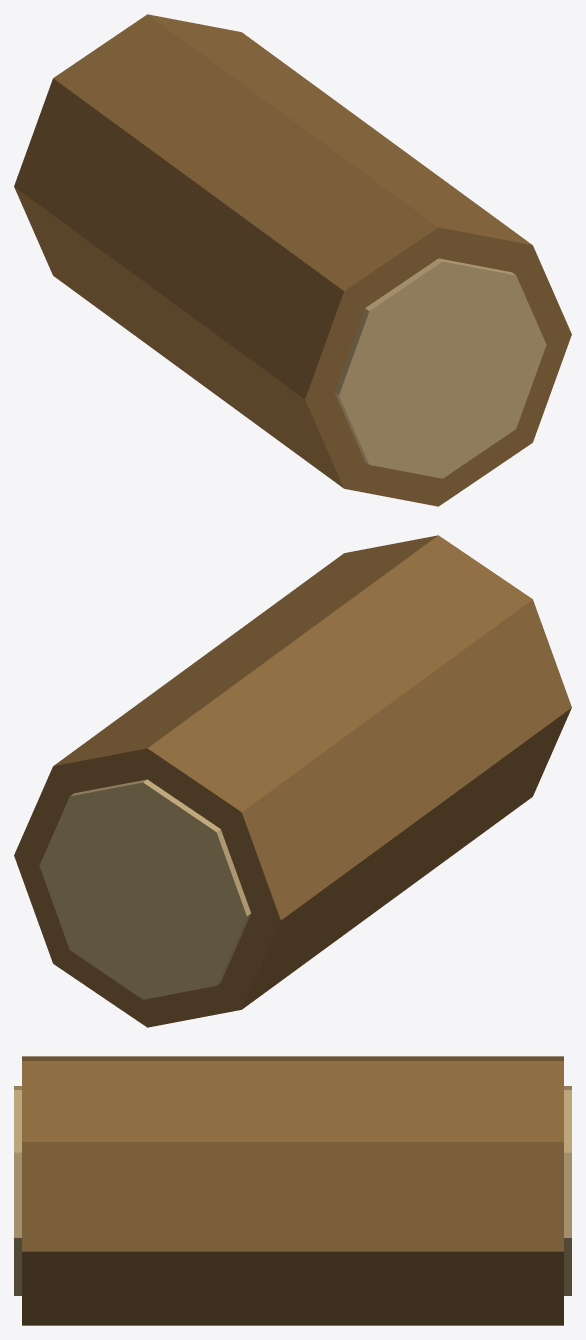
Rendered from log.fbx.
The picture shows the model from 3 angles, top to bottom: view 1: azimuth 30°, elevation 25°; view 2: azimuth 150°, elevation 25°; view 3: azimuth 270°, elevation 25°; orthographic projection. The views are drawn at different scales.
Visible parts, largest first — view 1: log; view 2: log; view 3: log.
Boxes of the visible parts, bbox=[...] form: log: bbox=[14, 14, 571, 506]; log: bbox=[14, 535, 571, 1027]; log: bbox=[14, 1056, 571, 1325].
Size of the model in its own units: 0.54 by 0.54 by 1.05.
